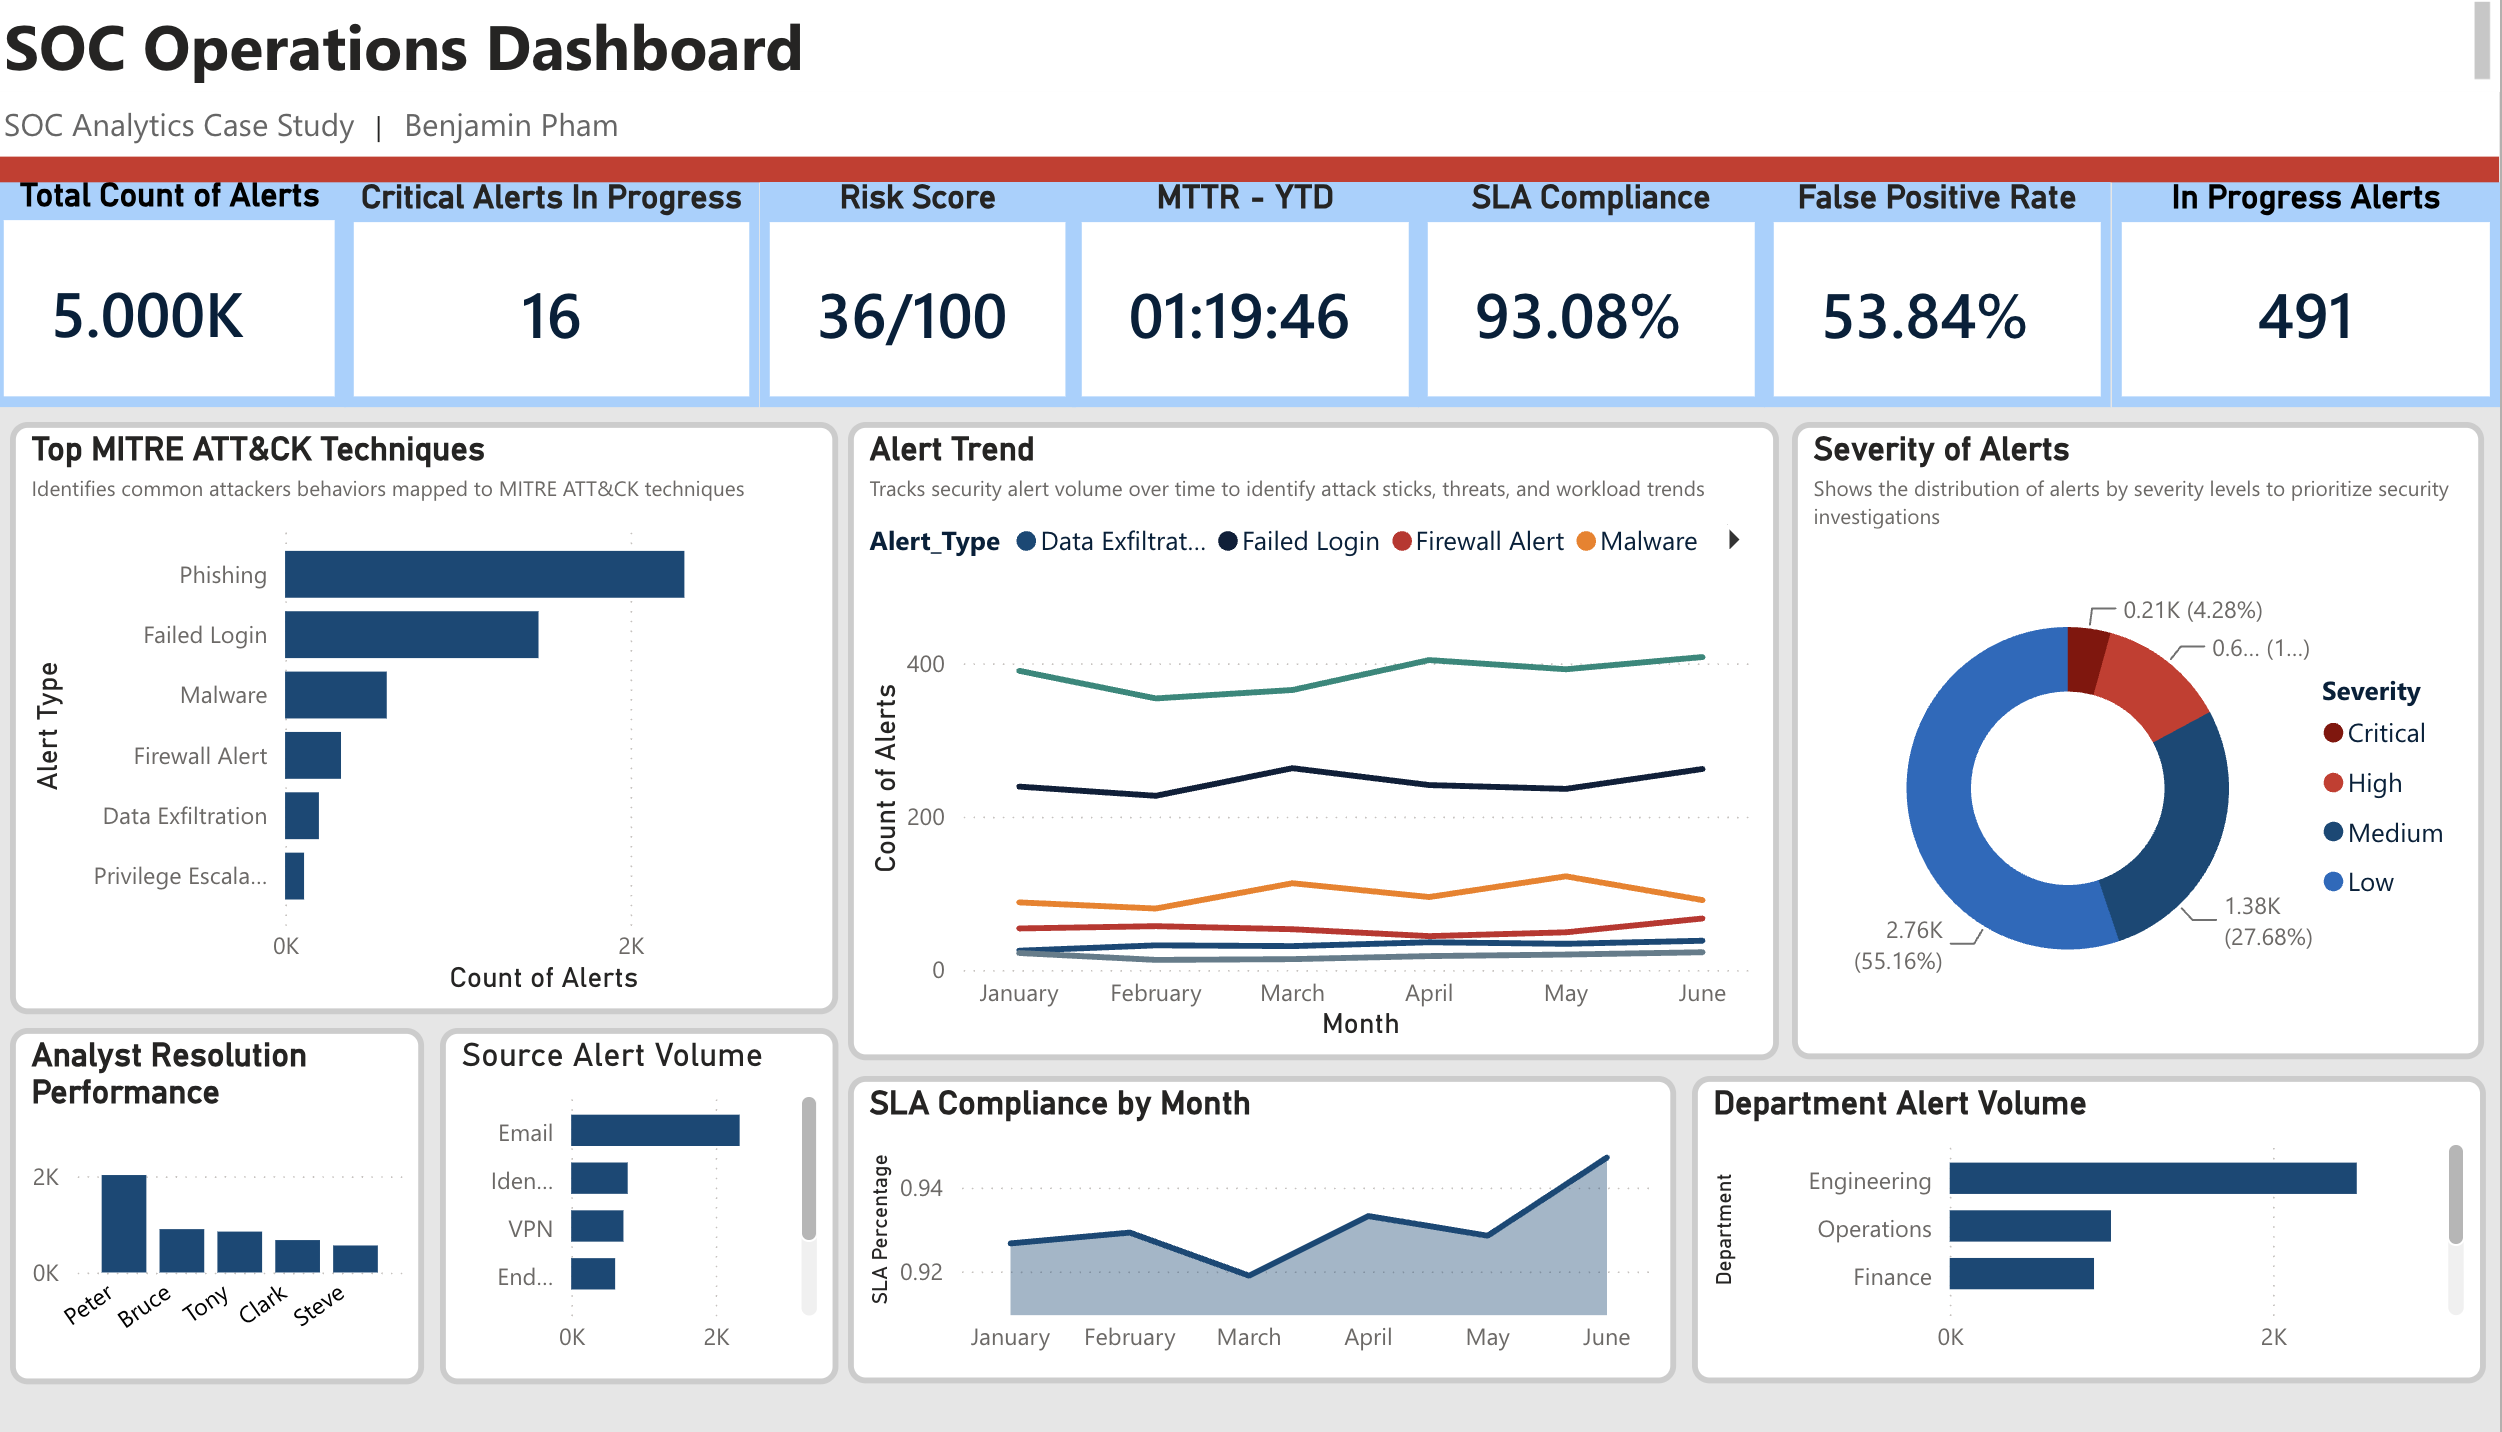

This screenshot's page, from the dashboard's own definition file:
{"tool":"powerbi","page":{"name":"Page 2","canvas":[1280,720],"ordinal":1},"visuals":[{"type":"cardVisual","title":"Total Count of Alerts","fields":{"Data":["CountNonNull(soc_alerts.Alert_ID)"]},"box":[0,98.5,179.5,115.8],"z":0},{"type":"cardVisual","title":"In Progress Alerts","fields":{"Data":["CountNonNull(soc_alerts.Alert_ID)"]},"box":[1081.6,99.2,198.4,114.8],"z":1000},{"type":"donutChart","title":"Severity of Alerts","fields":{"Category":["soc_alerts.Severity"],"Y":["CountNonNull(soc_alerts.Alert_ID)"]},"box":[918.3,221.6,353.7,325.7],"z":2000},{"type":"cardVisual","title":"Critical Alerts In Progress","fields":{"Data":["CountNonNull(soc_alerts.Alert_ID)"]},"box":[179,99.2,212,114.8],"z":3000},{"type":"barChart","title":"Department Alert Volume","fields":{"Category":["soc_alerts.Department"],"Y":["CountNonNull(soc_alerts.Alert_ID)"]},"box":[866.8,555.5,405.3,157.2],"z":4000},{"type":"columnChart","title":"Analyst Resolution Performance","fields":{"Category":["soc_alerts.Analyst"],"Y":["CountNonNull(soc_alerts.Alert_ID)"]},"box":[7.9,530.8,211.5,181.9],"z":5000},{"type":"clusteredBarChart","title":"Source Alert Volume","fields":{"Category":["soc_alerts.Source"],"Y":["CountNonNull(soc_alerts.Alert_ID)"]},"box":[227.3,530.8,203.6,181.9],"z":6000},{"type":"shape","box":[0,86,1279.7,13.4],"z":7000},{"type":"textbox","box":[0,1.8,1280,50.8],"z":8000},{"type":"textbox","box":[0,52.8,1279.7,33.1],"z":9000},{"type":"cardVisual","title":"Risk Score","fields":{"Data":["soc_alerts.Risk Score Display"]},"box":[391,99.2,161.5,114.8],"z":10000},{"type":"areaChart","title":"SLA Compliance by Month","fields":{"Category":["soc_alerts.Date.Variation.Date Hierarchy.Month"],"Y":["soc_alerts.SLA Percentage"]},"box":[435.9,555.5,423,157.2],"z":11000},{"type":"cardVisual","title":"MTTR - YTD","fields":{"Data":["soc_alerts.MTTR"]},"box":[550.5,99.2,177,114.8],"z":12000},{"type":"cardVisual","title":"SLA Compliance","fields":{"Data":["soc_alerts.SLA Percentage"]},"box":[727.5,99.2,177,114.8],"z":13000},{"type":"cardVisual","title":"False Positive Rate","fields":{"Data":["soc_alerts.False Positive Rate"]},"box":[904.6,99.2,177,114.8],"z":14000},{"type":"barChart","title":"Top MITRE ATT&CK Techniques","fields":{"Category":["soc_alerts.Alert_Type"],"Y":["CountNonNull(soc_alerts.Alert_ID)"]},"box":[7.9,221.4,423,302.5],"z":15000},{"type":"lineChart","title":"Alert Trend","fields":{"Category":["soc_alerts.Date.Variation.Date Hierarchy.Month"],"Series":["soc_alerts.Alert_Type"],"Y":["CountNonNull(soc_alerts.Alert_ID)"]},"box":[435.9,221.4,475.4,326.2],"z":16000}]}

Visuals, with their boxes in screenshot pixels (x1, y1, x2, y2), scaled from the page's 1280x720 canvas onto the 2502x1432 screenshot:
"Total Count of Alerts" cardVisual: [0,196,351,426]
"In Progress Alerts" cardVisual: [2114,197,2501,426]
"Severity of Alerts" donutChart: [1795,441,2486,1089]
"Critical Alerts In Progress" cardVisual: [350,197,764,426]
"Department Alert Volume" barChart: [1694,1105,2487,1417]
"Analyst Resolution Performance" columnChart: [15,1056,429,1417]
"Source Alert Volume" clusteredBarChart: [444,1056,842,1417]
shape: [0,171,2501,198]
textbox: [0,4,2501,105]
textbox: [0,105,2501,171]
"Risk Score" cardVisual: [764,197,1080,426]
"SLA Compliance by Month" areaChart: [852,1105,1679,1417]
"MTTR - YTD" cardVisual: [1076,197,1422,426]
"SLA Compliance" cardVisual: [1422,197,1768,426]
"False Positive Rate" cardVisual: [1768,197,2114,426]
"Top MITRE ATT&CK Techniques" barChart: [15,440,842,1042]
"Alert Trend" lineChart: [852,440,1781,1089]
